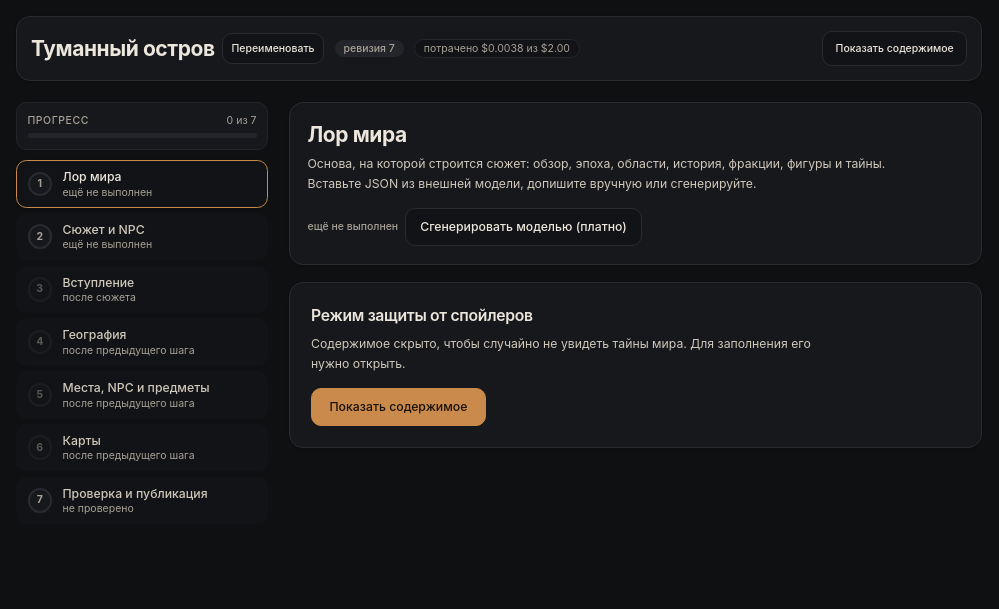
название проекта можно переименовать из шапки
Click the button "Переименовать": click(273, 49) [222,33,324,64]
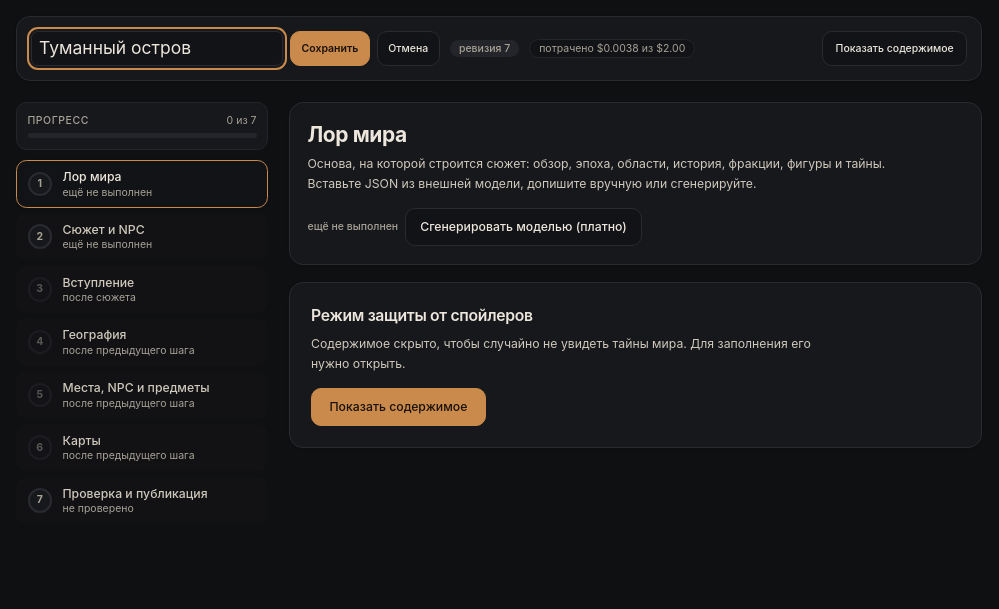
expect the field named "Название проекта" holds "Туманный остров": met
Replace the text in the field named "Название проекта" with "  Новый остров ": (157, 48) [31,31,283,66]
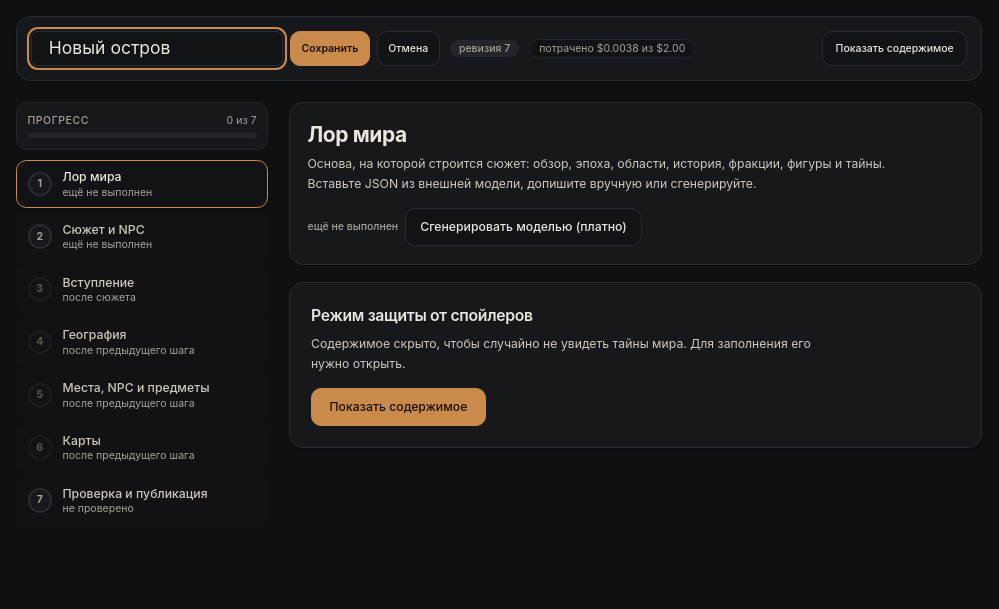
Click the button "Сохранить": click(330, 48) [290,31,370,66]
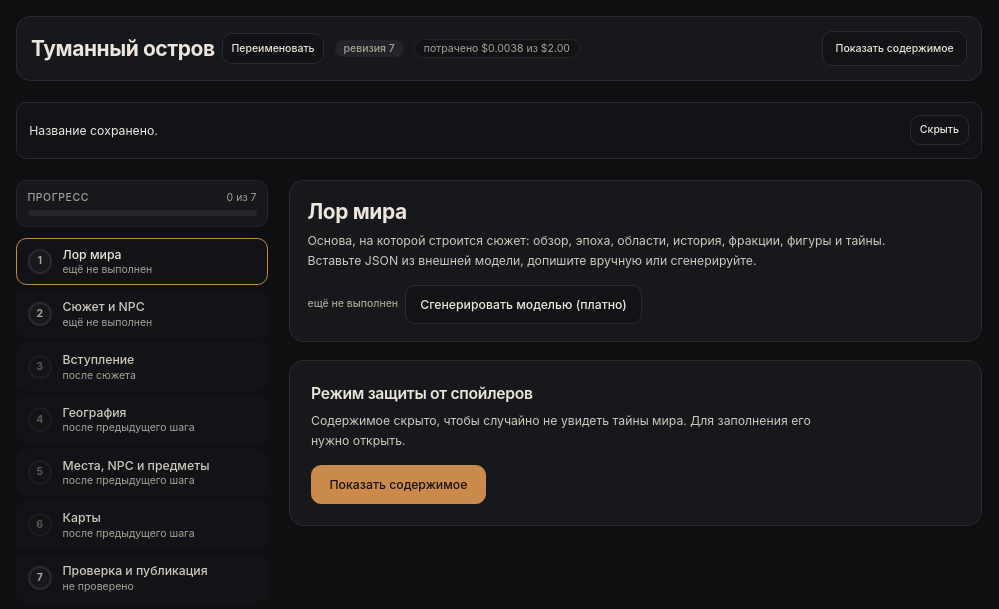
expect the text "Название сохранено." is shown: met, box [29,122,158,139]
